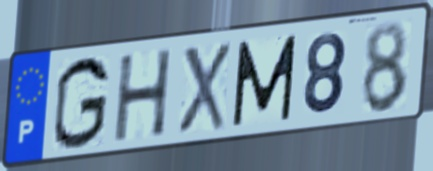8: (358, 19, 414, 114), (303, 31, 349, 117)
G: (50, 54, 112, 153)
H: (112, 46, 175, 146)
M: (230, 32, 300, 130)
X: (175, 40, 232, 137)
